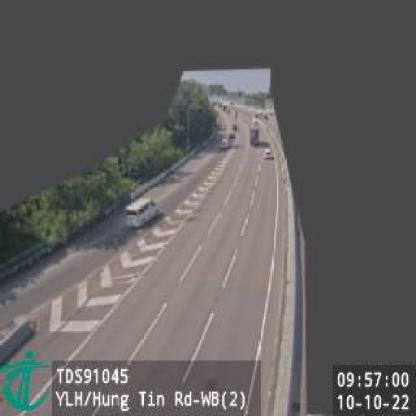Car: (128, 198, 158, 229), (264, 148, 274, 159)
